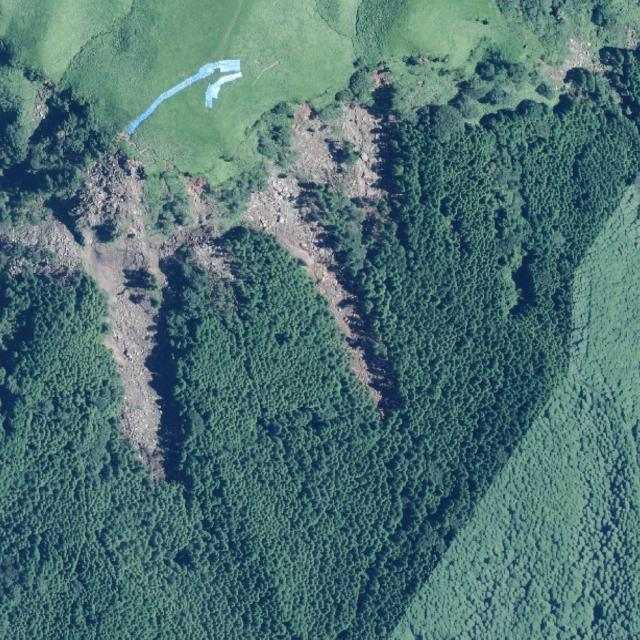landslide: (33, 154, 235, 478), (239, 138, 386, 403), (551, 26, 615, 83)
